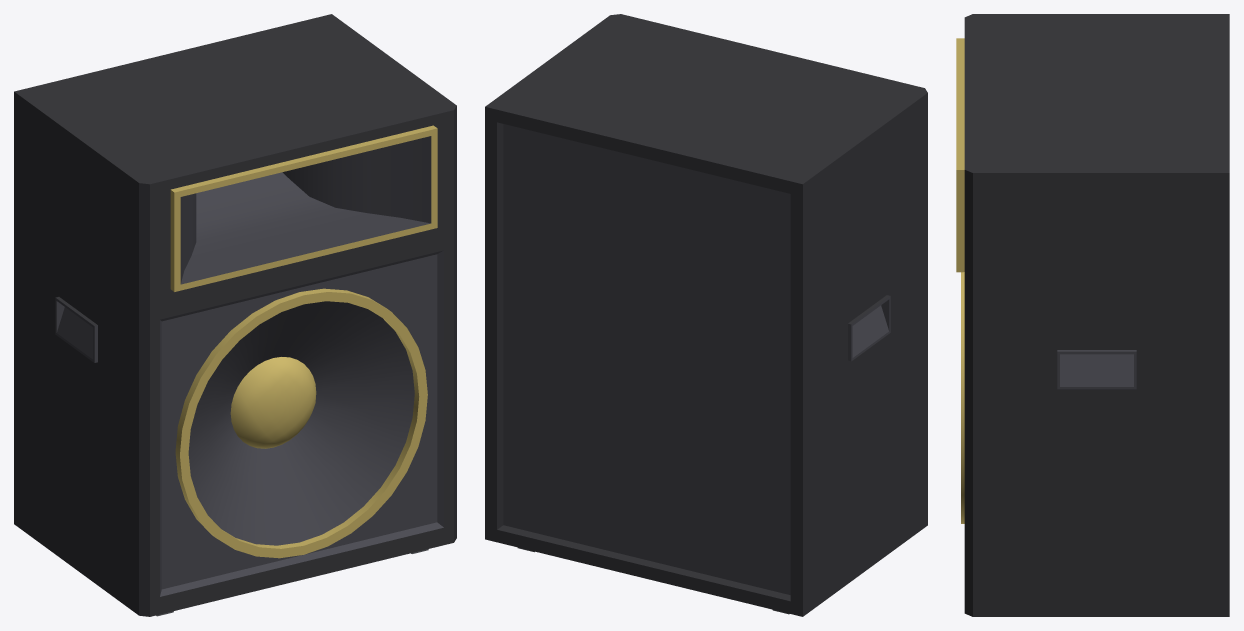
File: monitor_speaker.glb
3 renders of one model, left to right at view 1: azimuth 30°, elevation 25°; view 2: azimuth 150°, elevation 25°; view 3: azimuth 270°, elevation 25°, orthographic. The views are drawn at different scales.
Visible parts, largest first — view 1: speaker.003; view 2: speaker.003; view 3: speaker.003.
Boxes of the visible parts, <box> form: speaker.003: <box>14,14,456,616</box>; speaker.003: <box>485,14,927,616</box>; speaker.003: <box>956,14,1229,616</box>.
Size of the model in its own units: 0.5517 by 0.7159 by 0.3912.
